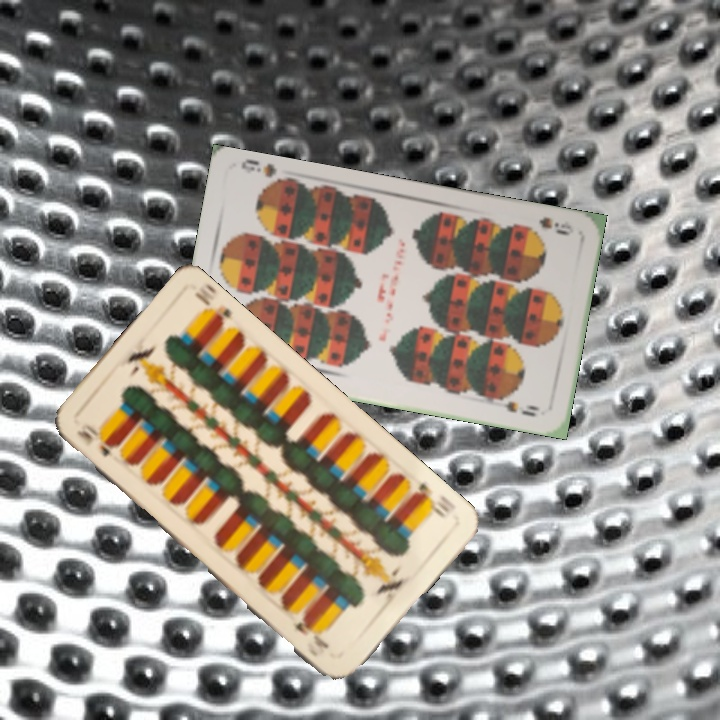E10: (408, 478, 459, 521), (72, 426, 114, 459)
S9: (518, 213, 576, 238)
